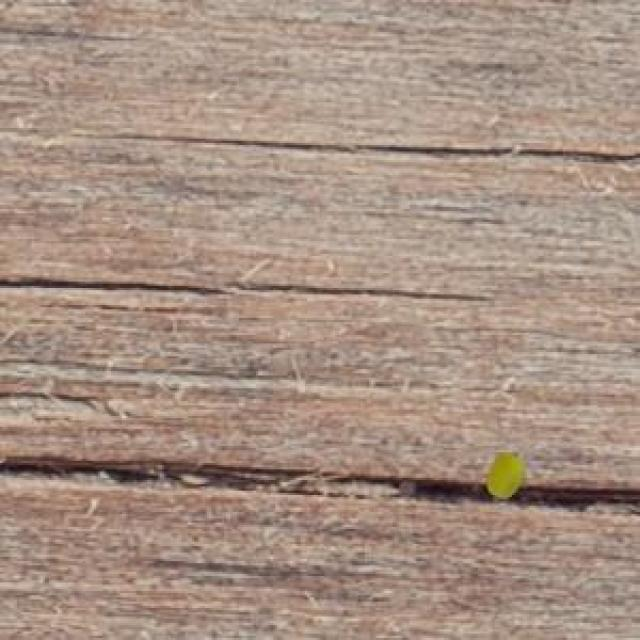Decolgen: (473, 441, 534, 509)
